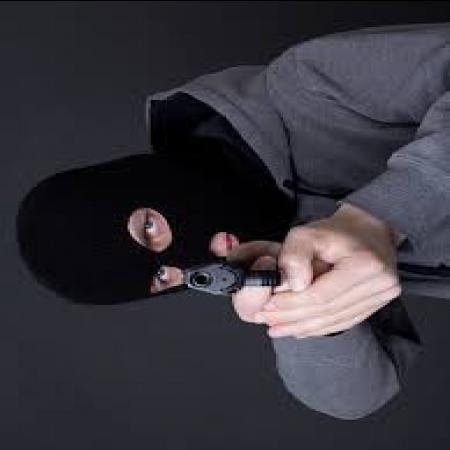Pistol: (179, 266, 283, 296)
